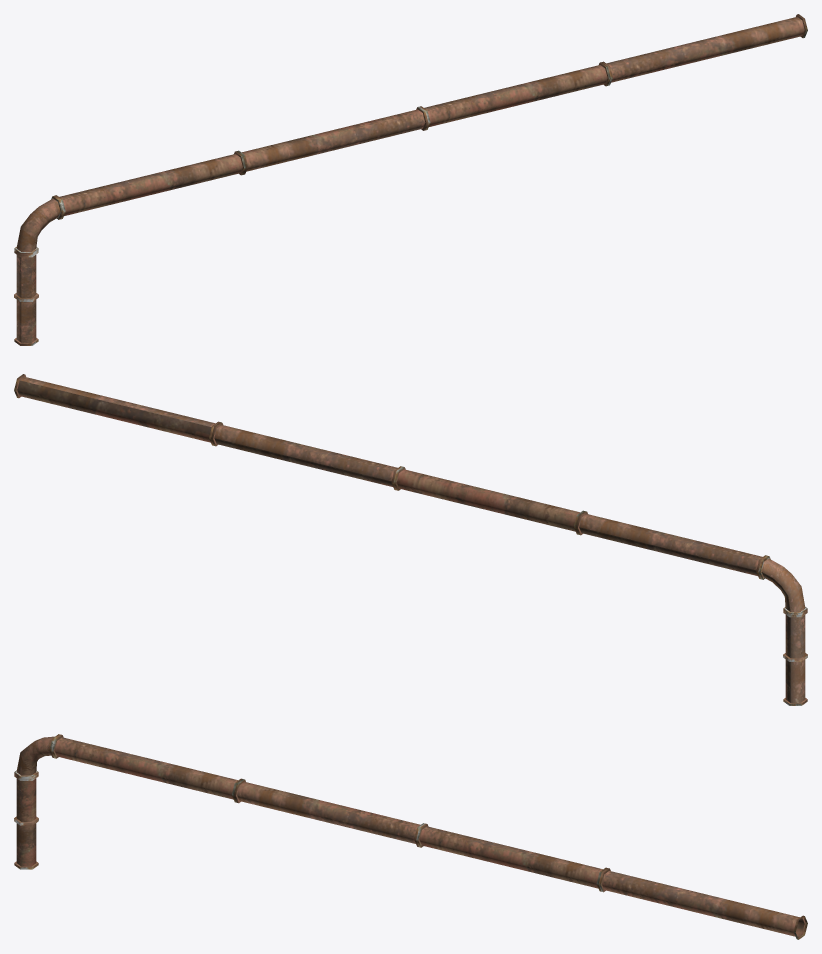
Rendered from truby.fbx.
3 views of the same model, one above another, from view 1: azimuth 30°, elevation 25°; view 2: azimuth 150°, elevation 25°; view 3: azimuth 330°, elevation 25° (orthographic).
Visible parts, largest first — view 1: BigPipeOpen.003, BigPipeOpen, BigPipeOpen.001, BigPipeOpen.002, RegularPipeOpenAlt, CurveMediumOpen.002; view 2: BigPipeOpen.003, BigPipeOpen.001, BigPipeOpen, BigPipeOpen.002, RegularPipeOpenAlt, CurveMediumOpen.002; view 3: BigPipeOpen.003, BigPipeOpen, BigPipeOpen.002, BigPipeOpen.001, RegularPipeOpenAlt, CurveMediumOpen.002.
Boxes of the visible parts, x1,y1,x2,y2 form: BigPipeOpen.003: (602,14,807,85); BigPipeOpen: (55,151,245,219); BigPipeOpen.001: (237,106,428,174); BigPipeOpen.002: (420,62,610,130); RegularPipeOpenAlt: (14,251,38,345); CurveMediumOpen.002: (14,195,63,254); BigPipeOpen.003: (14,374,219,445); BigPipeOpen.001: (393,466,584,534); BigPipeOpen: (576,511,766,579); BigPipeOpen.002: (211,422,402,490); RegularPipeOpenAlt: (783,611,807,705); CurveMediumOpen.002: (758,555,807,614); BigPipeOpen.003: (598,868,807,939); BigPipeOpen: (51,734,242,802); BigPipeOpen.002: (416,823,607,891); BigPipeOpen.001: (234,779,424,846); RegularPipeOpenAlt: (14,774,38,869); CurveMediumOpen.002: (14,734,60,778).
Size of the model in its own units: 1380 by 229 by 37.9.
Materials: 1 (1 with a texture image).
